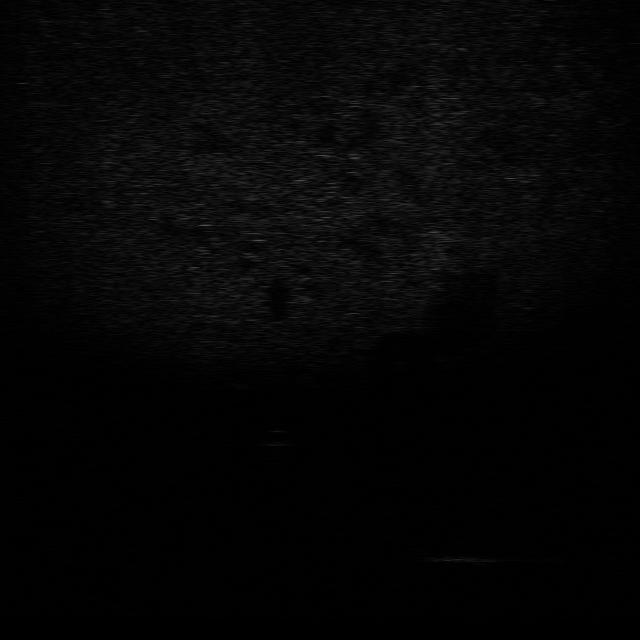ball: (254, 426, 298, 450)
metal bucket: (434, 546, 505, 569)
tyre: (368, 522, 442, 560)
